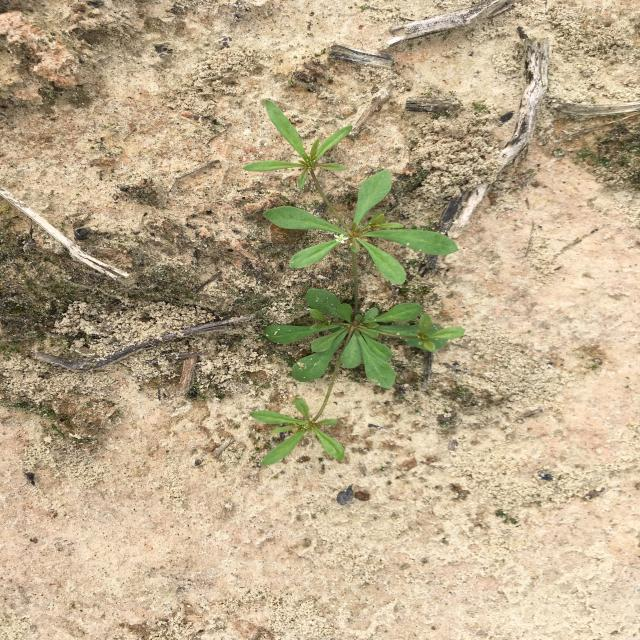Carpetweed: (242, 100, 466, 466)
